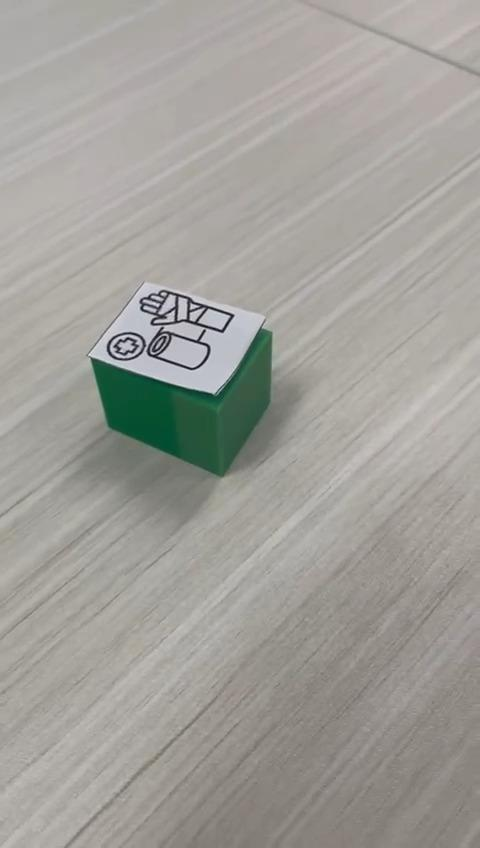Bandages: (88, 280, 272, 479)
